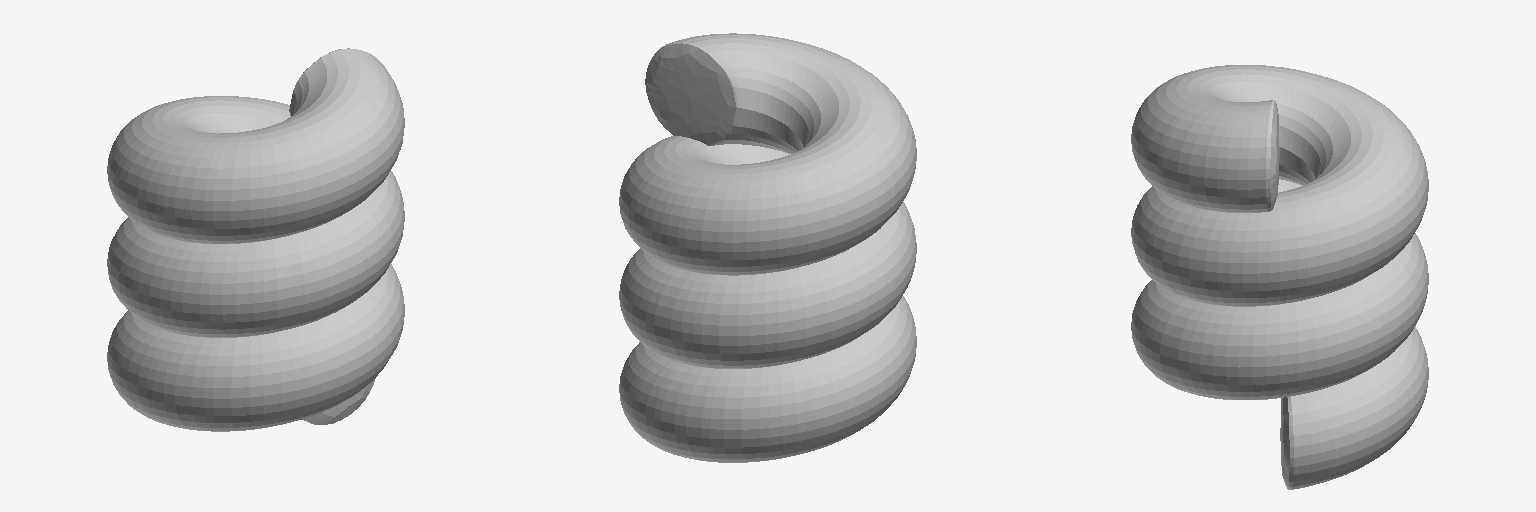
The model's file is helix_72.5.obj.
The picture shows the model from 3 angles: view 1: azimuth 30°, elevation 25°; view 2: azimuth 150°, elevation 25°; view 3: azimuth 270°, elevation 25°; orthographic projection.
Visible parts, largest first — view 1: helix:pHelix1; view 2: helix:pHelix1; view 3: helix:pHelix1.
Part boxes in pixels (x1,y1,x2,y2): helix:pHelix1: (107,48,404,431); helix:pHelix1: (619,33,916,462); helix:pHelix1: (1131,65,1428,489).
Bounding box in the file's own units: 1.92 × 2.71 × 1.92.